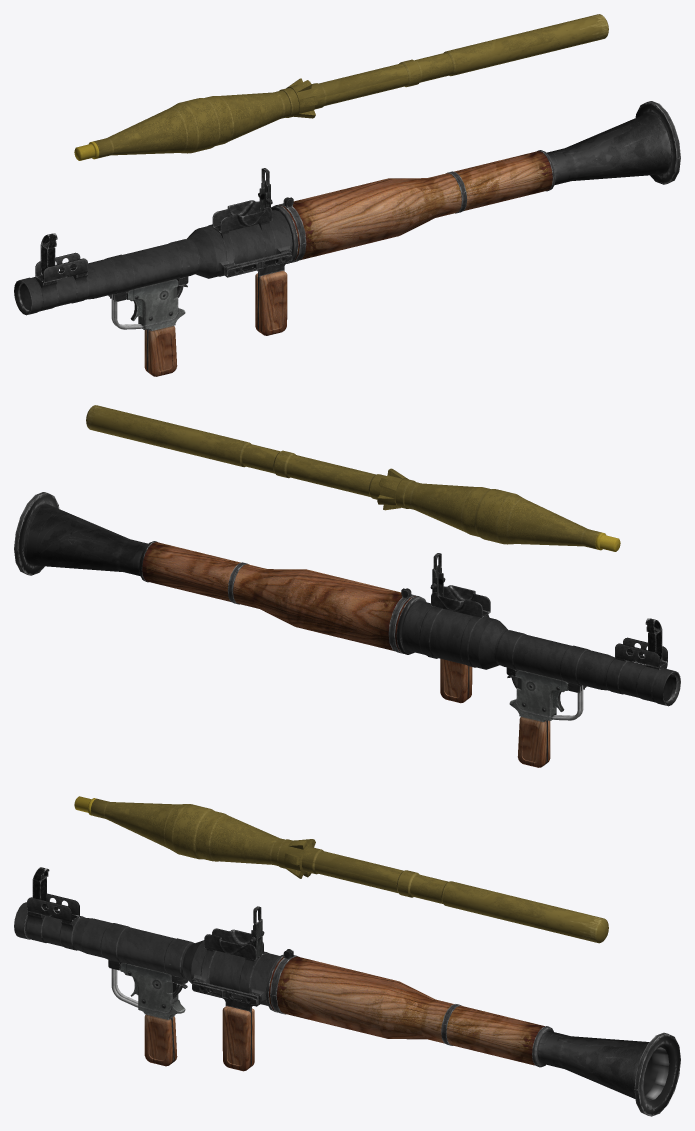
Rendered from rpg7.fbx.
The picture shows the model from 3 angles, top to bottom: view 1: azimuth 30°, elevation 25°; view 2: azimuth 150°, elevation 25°; view 3: azimuth 330°, elevation 25°; orthographic projection.
Visible parts, largest first — view 1: rpg7, rpg7_warhead; view 2: rpg7, rpg7_warhead; view 3: rpg7, rpg7_warhead.
Boxes of the visible parts, <box> form: rpg7: <box>14,101,680,376</box>; rpg7_warhead: <box>74,14,608,160</box>; rpg7: <box>14,492,680,767</box>; rpg7_warhead: <box>86,405,620,551</box>; rpg7: <box>14,867,680,1116</box>; rpg7_warhead: <box>74,796,608,943</box>.
Bounding box in the file's own units: 92.25 × 36.33 × 10.66.
